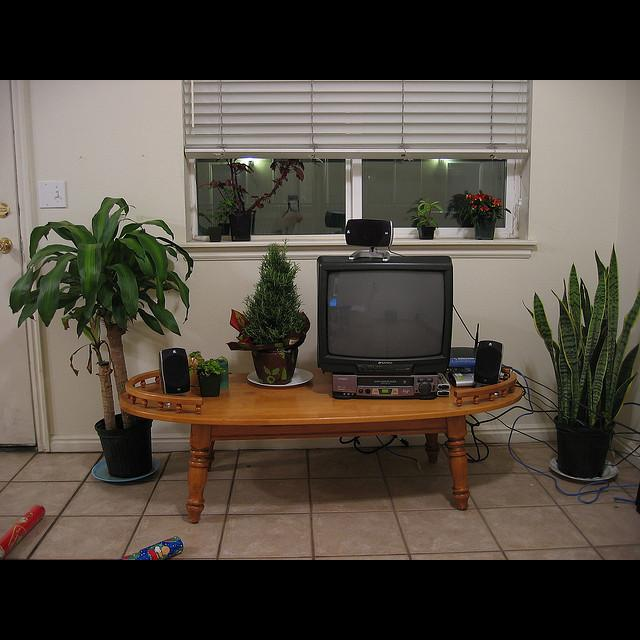Flat-Panel-TV: (316, 255, 451, 374)
TV-Remote-Control: (437, 373, 450, 390)
